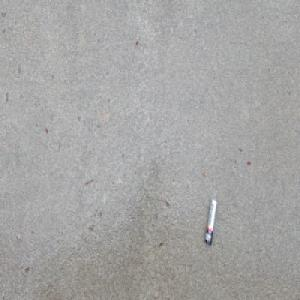Battery: (203, 196, 217, 246)
